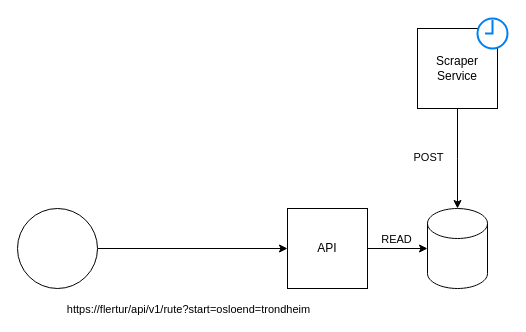
Image size: 526x332. Some labels were removed from this diagram. Here are the shapes that lost their labels. From the top down, the centre of each, then its label:
(x=57, y=248): client
(x=457, y=248): DB
